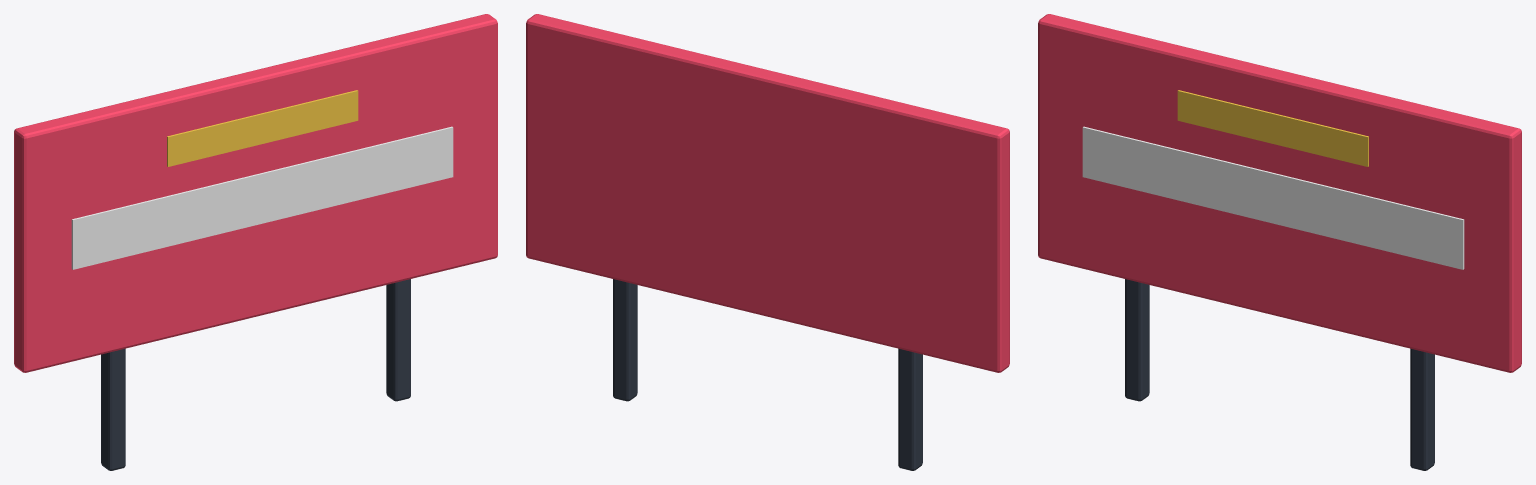
File: Jumping_Billboard.fbx
3 renders of one model, left to right at view 1: azimuth 30°, elevation 25°; view 2: azimuth 150°, elevation 25°; view 3: azimuth 330°, elevation 25°, orthographic.
Visible parts, largest first — view 1: Billboard; view 2: Billboard; view 3: Billboard.
Boxes of the visible parts, bbox=[...] form: Billboard: bbox=[14, 14, 497, 470]; Billboard: bbox=[526, 14, 1009, 470]; Billboard: bbox=[1038, 14, 1521, 470].
Bounding box in the file's own units: 5 × 3.6 × 0.23.
